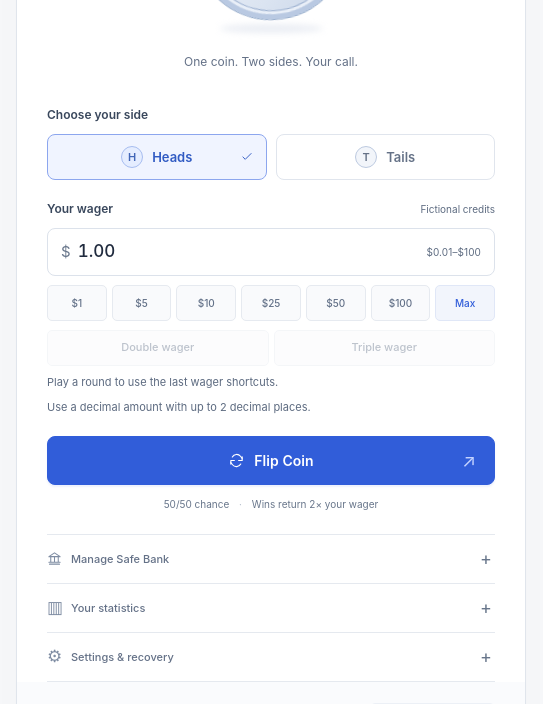
is accessible by labels and Strict Mode does not replay a financial transaction
The width and height of the screenshot is (543, 704).
(page scrolled)
What coordinates should you click on to do the following:
click the button "$10"
I would click on:
 (206, 303)
Its box is [176,285,236,321].
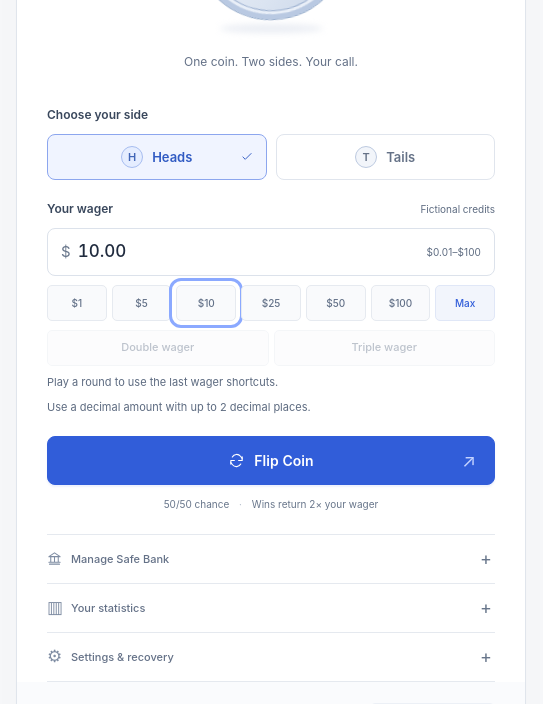
What coordinates should you click on to do the following:
click the button "Flip Coin ↗"
I would click on:
 (271, 460)
Its box is [47,436,495,485].
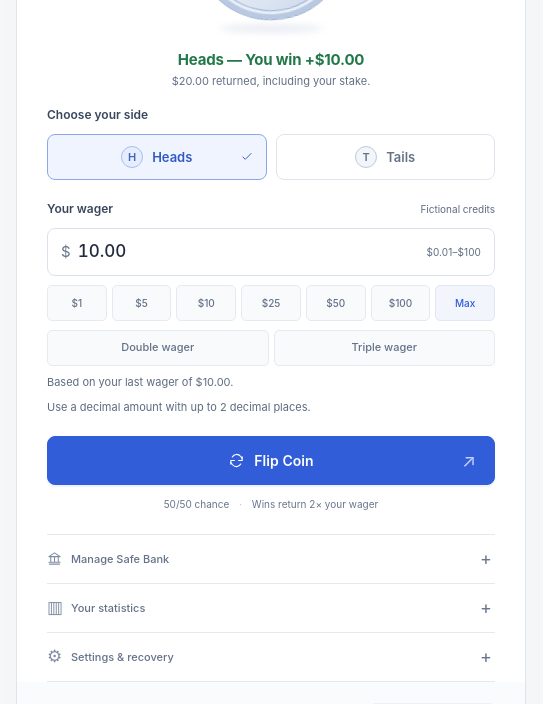
Expected: the radio button labelled "Heads" is checked, [47,134,266,180]
Expected: the field labelled "Your wager Fictional credits" holds "10.00", [78,229,419,274]
Expected: the text "Heads — You win +$10.00" is shown, [172,49,370,70]
